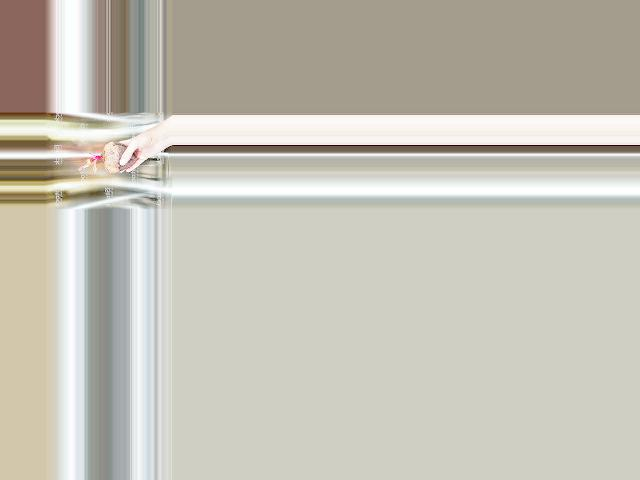beet: (79, 142, 136, 173)
